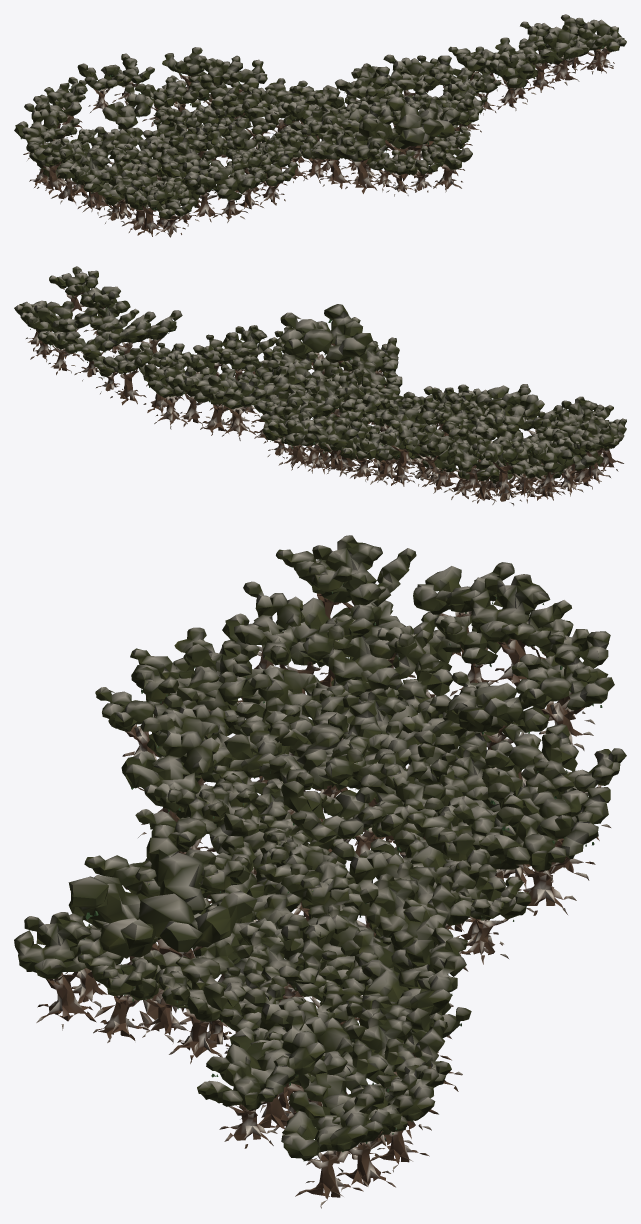
Rendered from BosqueArboles_LOD2.glb.
The picture shows the model from 3 angles, top to bottom: view 1: azimuth 30°, elevation 25°; view 2: azimuth 150°, elevation 25°; view 3: azimuth 270°, elevation 25°; orthographic projection. The views are drawn at different scales.
Parts seen in each view (by area): view 1: ArbolGigante, ArbolRetorcido027, ArbolRetorcido113, ArbolRetorcido067, ArbolRetorcido046, ArbolRetorcido110, ArbolRetorcido102, ArbolRetorcido054, ArbolRetorcido086, ArbolRetorcido055, ArbolRetorcido011, ArbolRetorcido077 (+72 smaller); view 2: ArbolGigante, ArbolRetorcido077, ArbolRetorcido089, ArbolRetorcido047, ArbolRetorcido015, ArbolRetorcido065, ArbolRetorcido092, ArbolRetorcido120, ArbolRetorcido086, ArbolRetorcido117, ArbolRetorcido098, ArbolRetorcido011 (+61 smaller); view 3: ArbolGigante, ArbolRetorcido112, ArbolRetorcido102, ArbolRetorcido089, ArbolRetorcido037, ArbolRetorcido087, ArbolRetorcido046, ArbolRetorcido011, ArbolRetorcido027, ArbolRetorcido110, ArbolRetorcido062, ArbolRetorcido098 (+90 smaller).
Part boxes in pixels (x1=…): ArbolGigante: x1=359, y1=96, x2=460, y2=187; ArbolRetorcido027: x1=536, y1=26, x2=590, y2=85; ArbolRetorcido113: x1=334, y1=130, x2=386, y2=193; ArbolRetorcido067: x1=310, y1=127, x2=356, y2=188; ArbolRetorcido046: x1=207, y1=166, x2=256, y2=222; ArbolRetorcido110: x1=102, y1=84, x2=153, y2=150; ArbolRetorcido102: x1=427, y1=136, x2=472, y2=192; ArbolRetorcido054: x1=484, y1=59, x2=533, y2=110; ArbolRetorcido086: x1=14, y1=103, x2=59, y2=160; ArbolRetorcido055: x1=182, y1=169, x2=228, y2=222; ArbolRetorcido011: x1=577, y1=26, x2=626, y2=73; ArbolRetorcido077: x1=335, y1=66, x2=389, y2=101; ArbolGigante: x1=280, y1=304, x2=372, y2=385; ArbolRetorcido077: x1=208, y1=375, x2=266, y2=440; ArbolRetorcido089: x1=483, y1=441, x2=533, y2=496; ArbolRetorcido047: x1=102, y1=342, x2=153, y2=405; ArbolRetorcido015: x1=36, y1=301, x2=97, y2=361; ArbolRetorcido065: x1=447, y1=439, x2=490, y2=493; ArbolRetorcido092: x1=307, y1=419, x2=362, y2=471; ArbolRetorcido120: x1=144, y1=363, x2=196, y2=429; ArbolRetorcido086: x1=528, y1=443, x2=573, y2=494; ArbolRetorcido117: x1=193, y1=378, x2=243, y2=435; ArbolRetorcido098: x1=570, y1=423, x2=618, y2=483; ArbolRetorcido011: x1=49, y1=266, x2=98, y2=315; ArbolGigante: x1=68, y1=837, x2=257, y2=1028; ArbolRetorcido112: x1=479, y1=806, x2=598, y2=915; ArbolRetorcido102: x1=14, y1=912, x2=106, y2=1030; ArbolRetorcido089: x1=469, y1=574, x2=571, y2=686; ArbolRetorcido037: x1=281, y1=1093, x2=375, y2=1208; ArbolRetorcido087: x1=511, y1=650, x2=614, y2=750; ArbolRetorcido046: x1=121, y1=714, x2=219, y2=843; ArbolRetorcido011: x1=197, y1=1055, x2=295, y2=1148; ArbolRetorcido027: x1=225, y1=1009, x2=325, y2=1135; ArbolRetorcido110: x1=445, y1=683, x2=549, y2=769; ArbolRetorcido062: x1=281, y1=781, x2=383, y2=852; ArbolRetorcido098: x1=312, y1=535, x2=416, y2=625.
Size of the model in its own units: 216 by 30.66 by 98.97.
